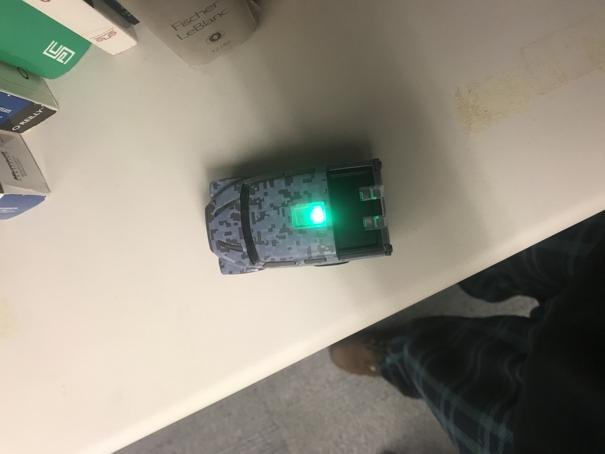MXT: (205, 157, 394, 275)
